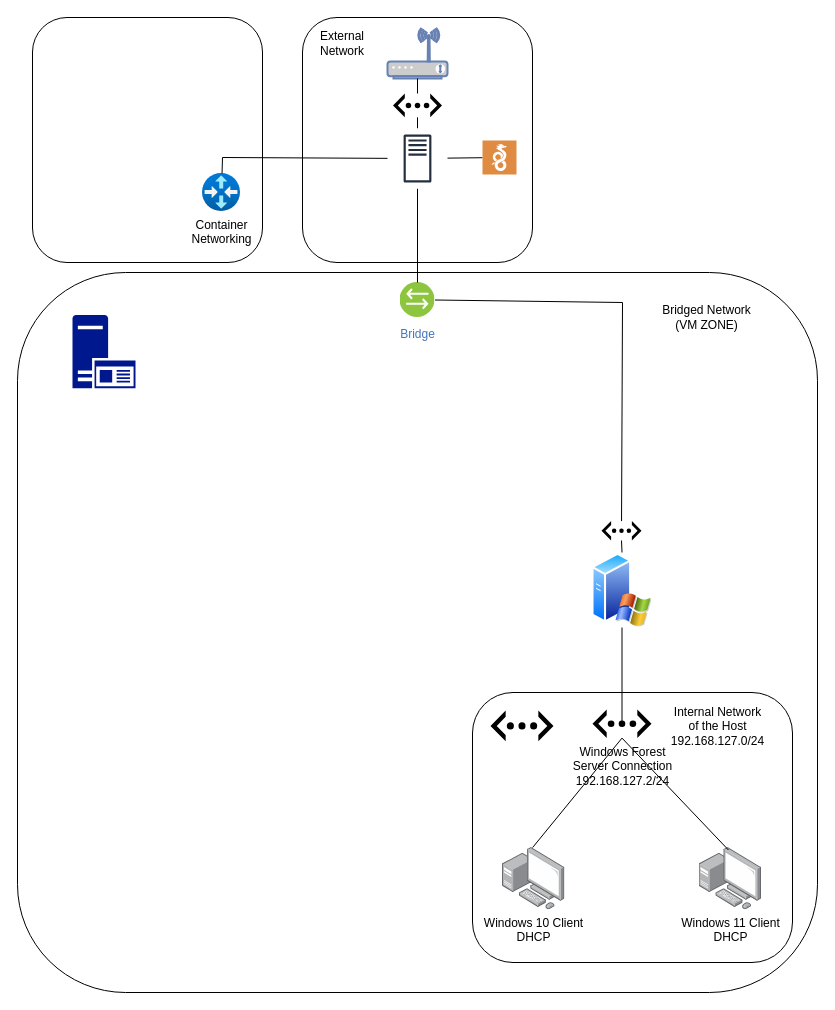
Image size: 835x1010. Some labels were removed from this diagram. The shapes that lost their labels are listed below. From the top down, each one's box as (x1, y1, x2, y2) in pixels, then its label:
(386, 128, 448, 188): Fedora 40 Server Host 192.168.20.100/24
(592, 552, 652, 627): Active Directory & Other Windows 2022 Server 192.168.20.101
(490, 710, 553, 741): Security Onion Connection 192.168.127.3/24
